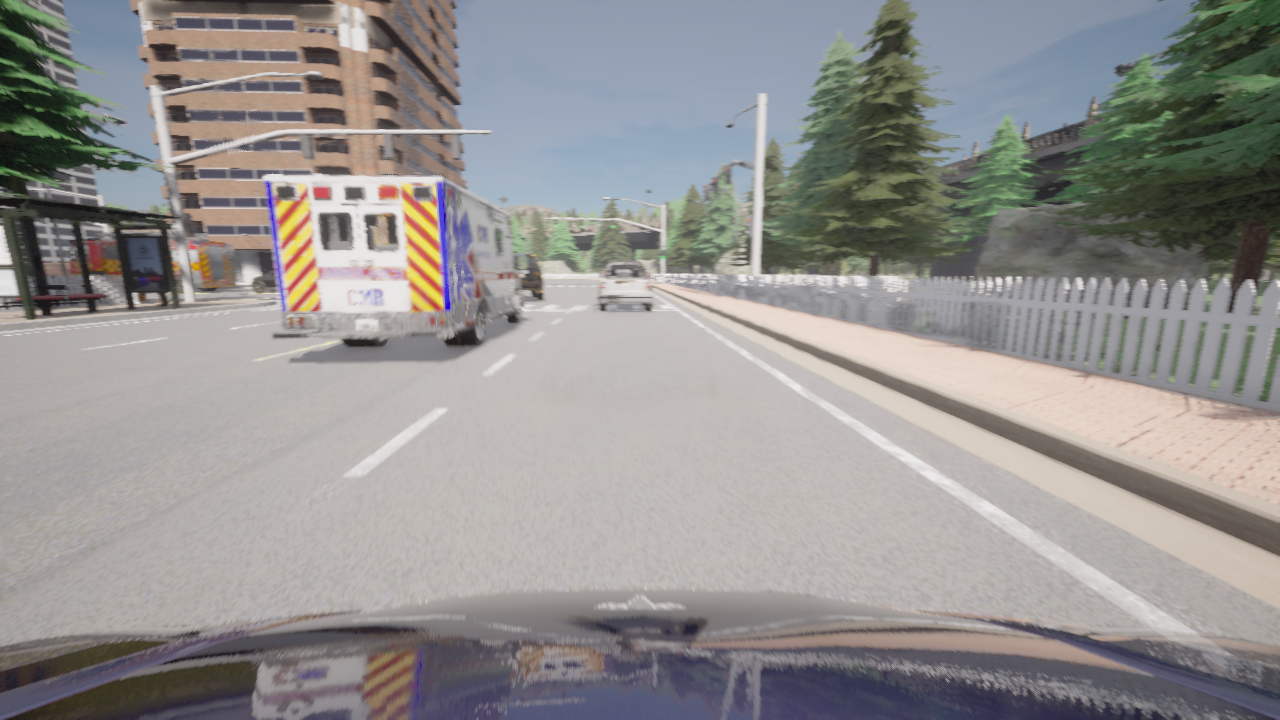cyclist: (0, 588, 1279, 719), (264, 175, 529, 347), (84, 233, 236, 292), (599, 261, 652, 311), (513, 254, 544, 300), (252, 270, 277, 292)
pedestrian: (157, 293, 169, 306), (138, 293, 150, 301)
